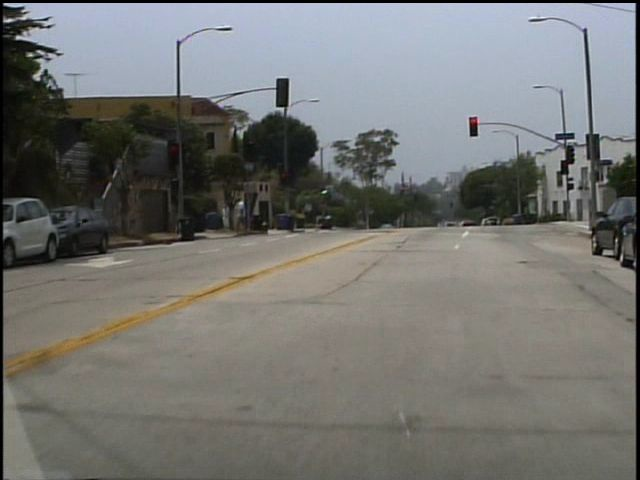person: (240, 197, 255, 238), (227, 203, 236, 235)
